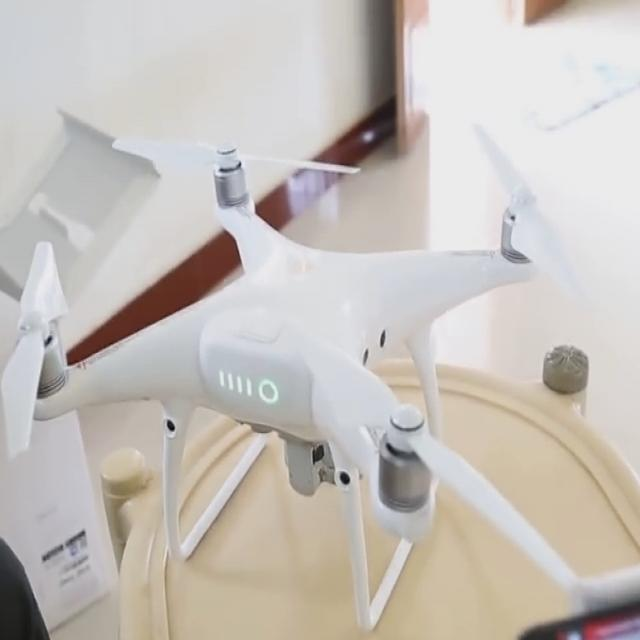drone: (0, 105, 619, 640)
